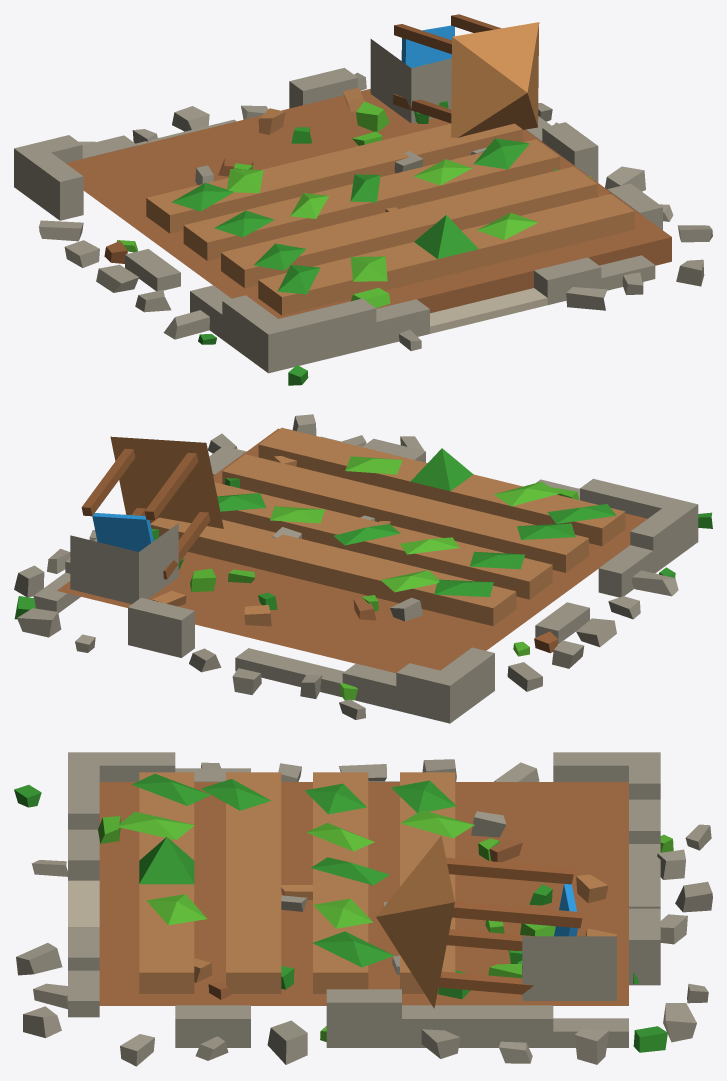
File: field_t3_v2_dmg2.glb
3 views of the same model, one above another, from view 1: azimuth 30°, elevation 25°; view 2: azimuth 150°, elevation 25°; view 3: azimuth 270°, elevation 25° (orthographic). The views are drawn at different scales.
Visible parts, largest first — view 1: field_t3_v2_dmg2; view 2: field_t3_v2_dmg2; view 3: field_t3_v2_dmg2.
Boxes of the visible parts, bbox=[...] form: field_t3_v2_dmg2: bbox=[14, 14, 712, 385]; field_t3_v2_dmg2: bbox=[14, 414, 712, 723]; field_t3_v2_dmg2: bbox=[14, 752, 712, 1066].
Size of the model in its own units: 0.8742 by 0.22 by 0.8848.
Materials: 1 (1 with a texture image).
